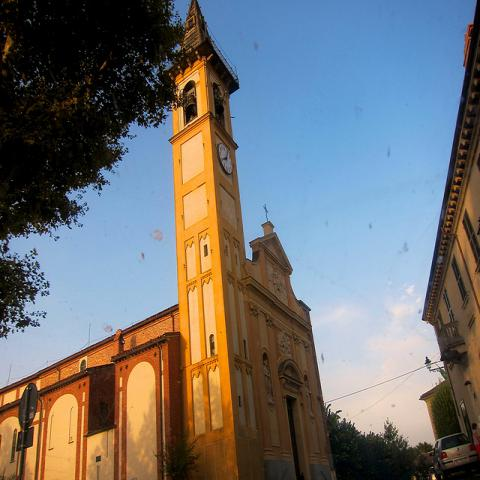car: (433, 431, 478, 479)
